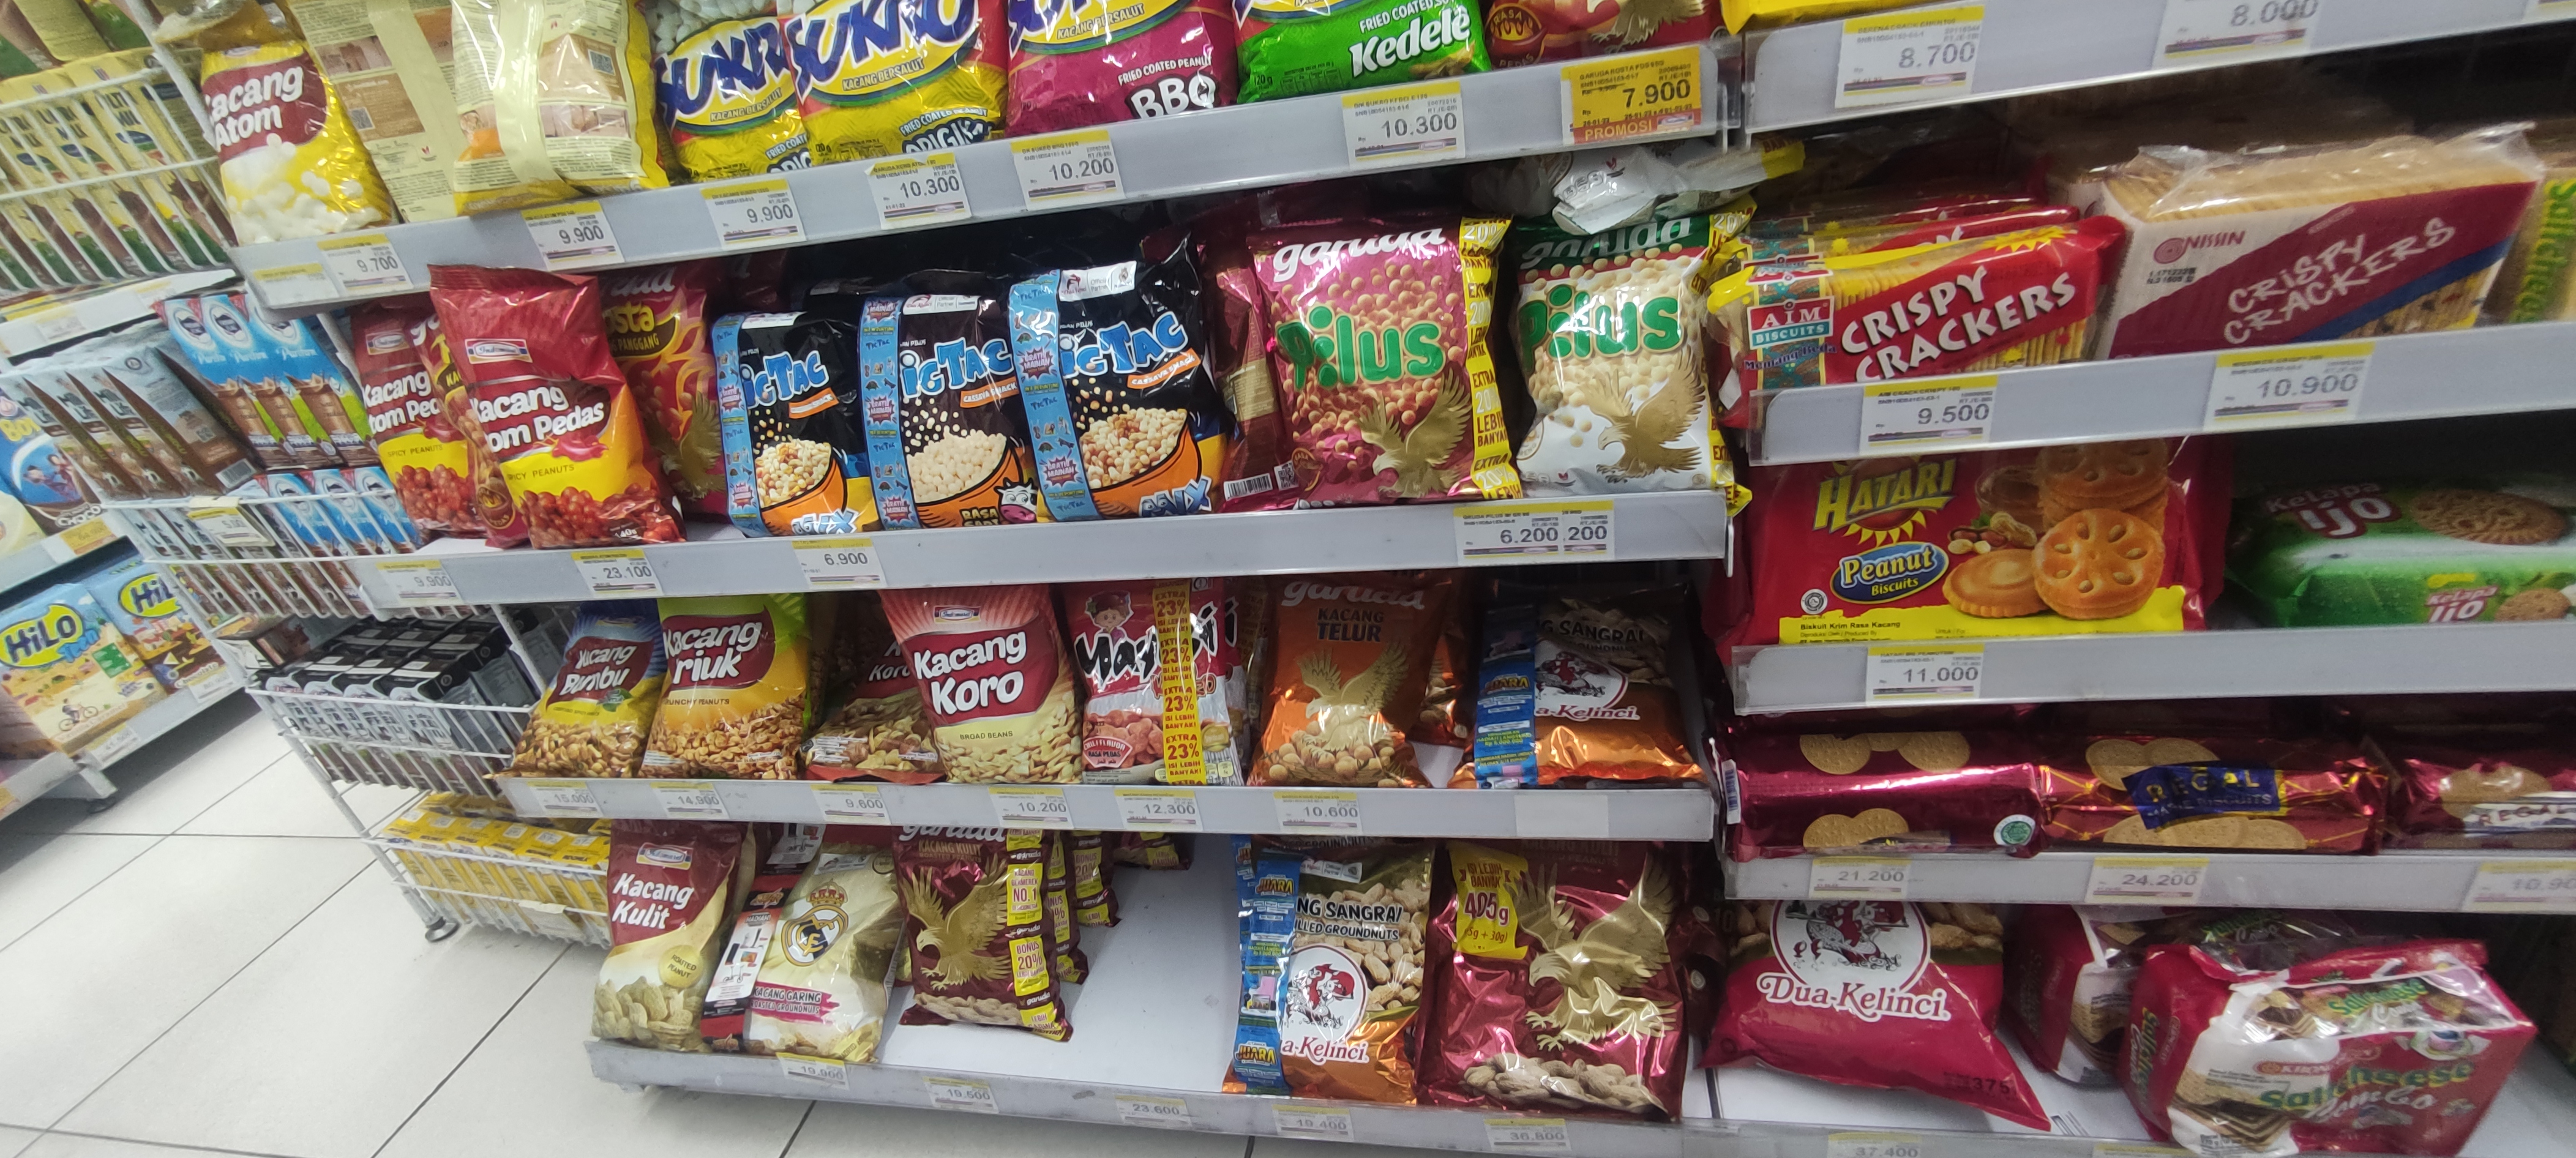90101111702100: (1252, 586, 1428, 783)
90101112103100: (897, 825, 1069, 1043)
90101151201100: (1257, 235, 1511, 498)
90101151604100: (1521, 225, 1727, 494)
Garuda Kacang Kulit 405 gram: (1434, 848, 1676, 1105)
KacangKoroIndomaret: (900, 591, 1073, 782)
KacangSangraiDuaKelinci: (1239, 839, 1416, 1104)
MayasiPedas: (1065, 580, 1235, 782)
TicTacMix: (1014, 248, 1211, 511), (711, 320, 862, 526)
TicTacSapiPanggang: (864, 286, 1028, 519)
